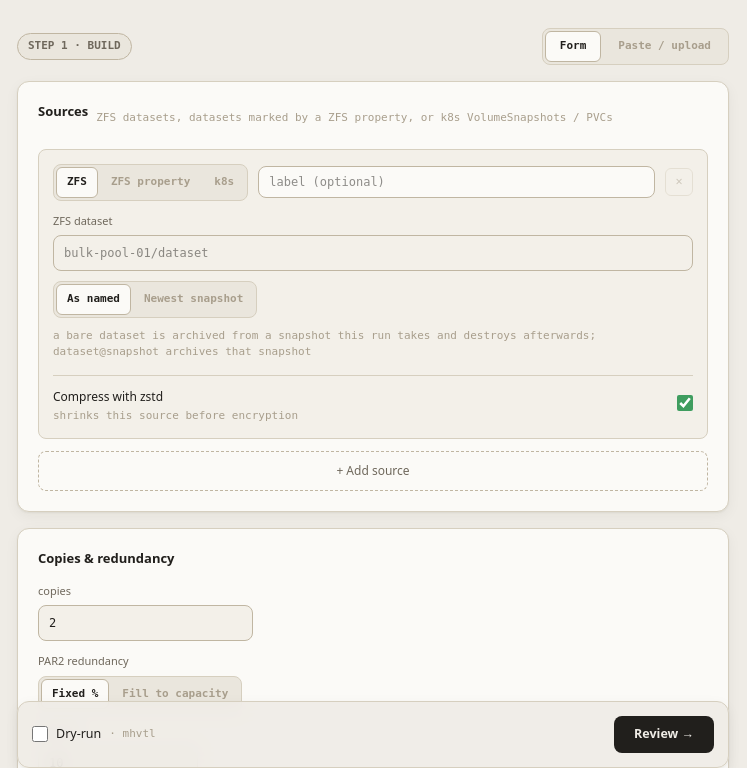
Test: ConfigPage › blocks Review when the blank-slot count is not a multiple of copies
The image size is (747, 768).
expect the element named "config input mode" is shown: met, box [542,28,729,64]
Type "bulk-pool-01/photos" into the field with placeholder "bulk-pool-01/dataset".
click(373, 253); type("bulk-pool-01/photos")  # box [53,235,693,271]
(page scrolled)
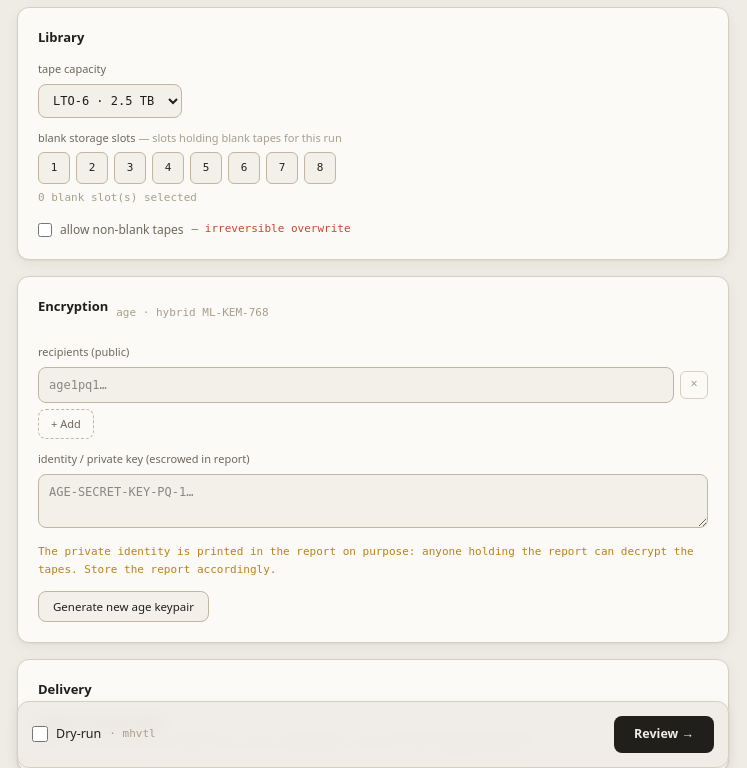
Type "age1pq1zl8m99jvxqmkqq5jwgq8n6j9w66rlahzh5lrpttmr7pldgxqn7uqf4" into the field with placeholder "age1pq1…".
click(356, 384); type("age1pq1zl8m99jvxqmkqq5jwgq8n6j9w66rlahzh5lrpttmr7pldgxqn7uqf4")  # box [38,366,674,402]
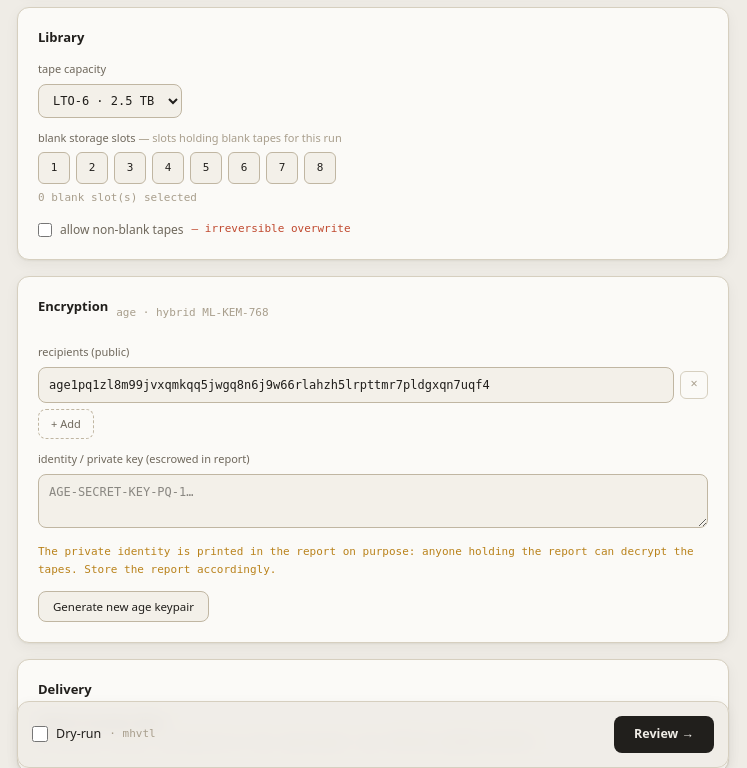
Type "AGE-SECRET-KEY-PQ-1EXAMPLE" into the text box labelled "identity / private key (escrowed in report)".
click(373, 500); type("AGE-SECRET-KEY-PQ-1EXAMPLE")  # box [38,474,708,528]
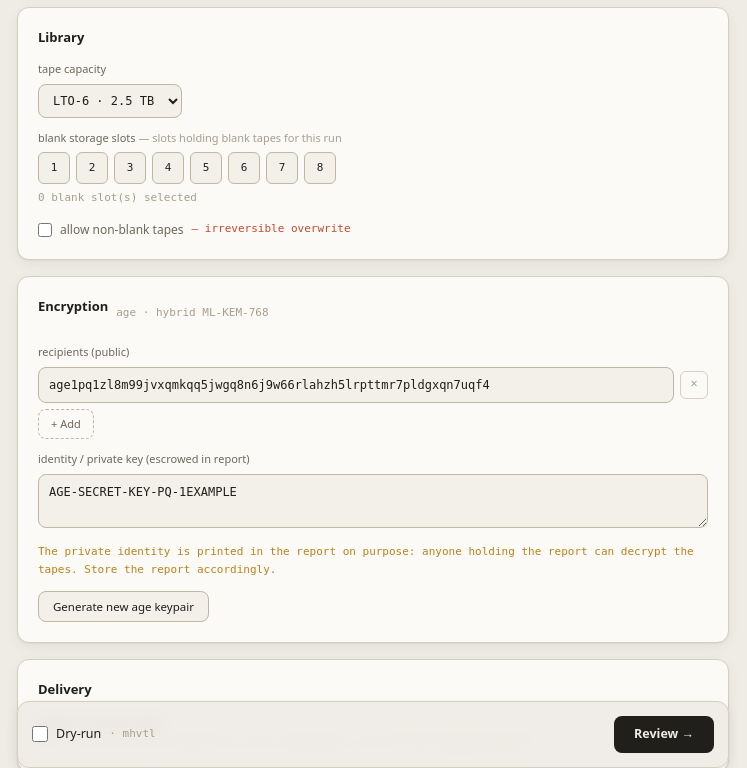
Click the button named "Slot 1".
click(54, 168)  # box [38,152,70,184]
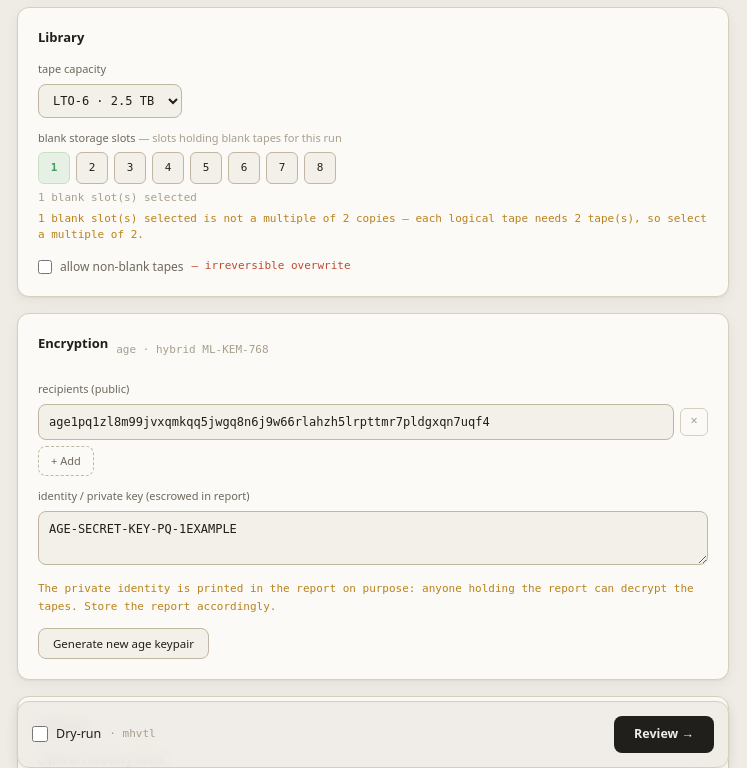
Click the button "Review →".
click(664, 735)  # box [614,716,714,753]
(page scrolled)
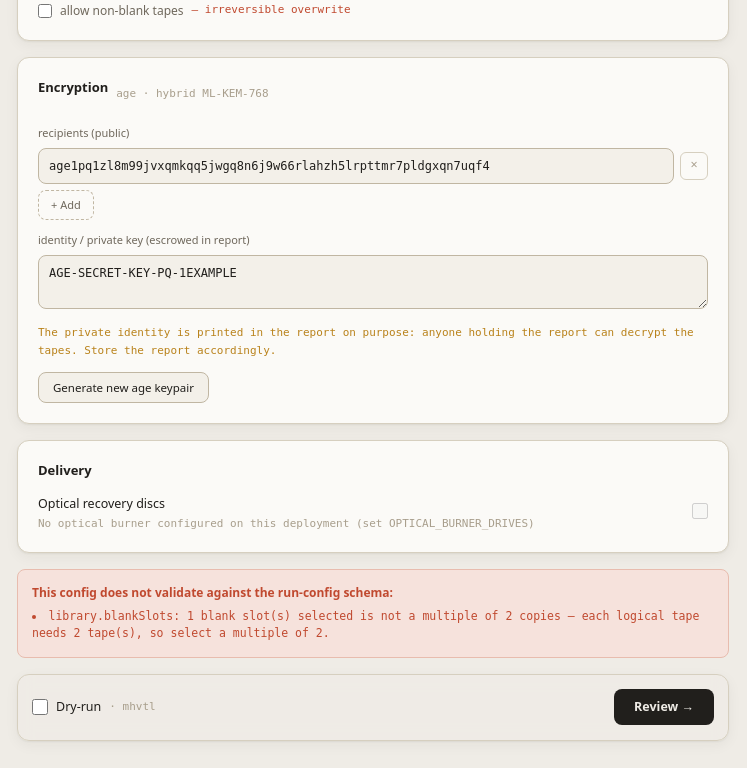
expect the text "This config does not validate against the run-config schema:" is shown: met, box [32,584,393,601]
expect the list item is shown: met, box [32,608,714,642]
